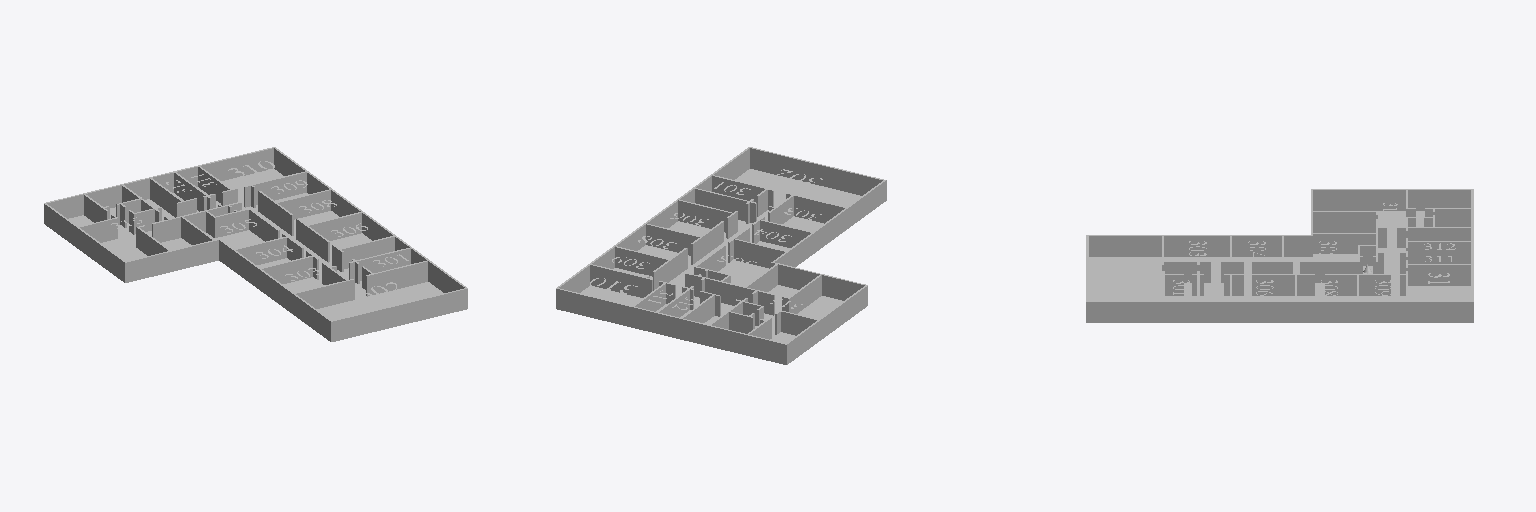
Rendered from bing3.obj.
3 views of the same model, side by side, from view 1: azimuth 30°, elevation 25°; view 2: azimuth 150°, elevation 25°; view 3: azimuth 270°, elevation 25° (orthographic).
Visible parts, largest first — view 1: polySurface19, pCube59, pCube62, pCube57, pCube85, pCube61, pCube60, pCube66, pCube74, pCube132, pCube162, pCube161 (+12 smaller); view 2: polySurface19, pCube59, pCube57, pCube62, pCube85, pCube60, pCube61, pCube74, pCube128, pCube130, pCube161, pCube66 (+10 smaller); view 3: polySurface19, pCube57, pCube85, pCube60, pCube102, pCube120, pCube167, pCube166, pCube157, pCube89, pCube113, pCube155 (+3 smaller).
Boxes of the visible parts, x1,y1,x2,y2 form: polySurface19: [69, 169, 442, 324]; pCube59: [44, 147, 273, 223]; pCube62: [330, 288, 465, 341]; pCube57: [273, 147, 467, 309]; pCube85: [219, 240, 331, 340]; pCube61: [124, 239, 220, 282]; pCube60: [44, 203, 126, 282]; pCube66: [292, 279, 354, 311]; pCube74: [244, 171, 306, 207]; pCube132: [379, 260, 427, 292]; pCube162: [274, 189, 330, 223]; pCube161: [305, 212, 361, 246]; polySurface19: [581, 169, 870, 342]; pCube59: [558, 288, 787, 364]; pCube57: [556, 147, 750, 309]; pCube62: [750, 147, 886, 201]; pCube85: [773, 181, 884, 266]; pCube60: [785, 286, 867, 364]; pCube61: [771, 262, 867, 300]; pCube74: [590, 264, 652, 297]; pCube128: [695, 188, 756, 222]; pCube130: [678, 200, 734, 232]; pCube161: [646, 224, 701, 255]; pCube66: [786, 193, 848, 228]; polySurface19: [1089, 211, 1470, 300]; pCube57: [1086, 301, 1473, 322]; pCube85: [1089, 235, 1310, 256]; pCube60: [1311, 189, 1473, 210]; pCube102: [1313, 211, 1377, 232]; pCube120: [1408, 264, 1470, 285]; pCube167: [1325, 274, 1390, 295]; pCube166: [1252, 274, 1314, 295]; pCube157: [1313, 233, 1377, 253]; pCube89: [1397, 227, 1473, 247]; pCube113: [1300, 261, 1359, 282]; pCube155: [1400, 253, 1470, 273].
Size of the model in its own units: 2351 by 202 by 3412.